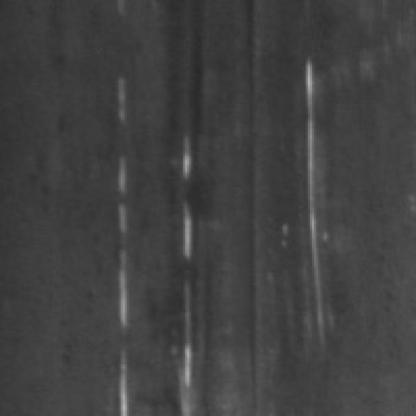inclusion: (162, 0, 212, 135)
scratches: (304, 54, 335, 356), (116, 75, 140, 414), (175, 118, 199, 412)
